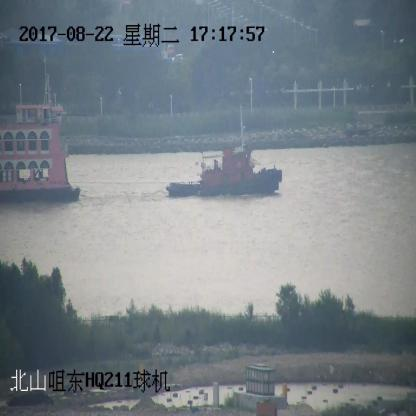Fishing Boat: (165, 108, 283, 196)
